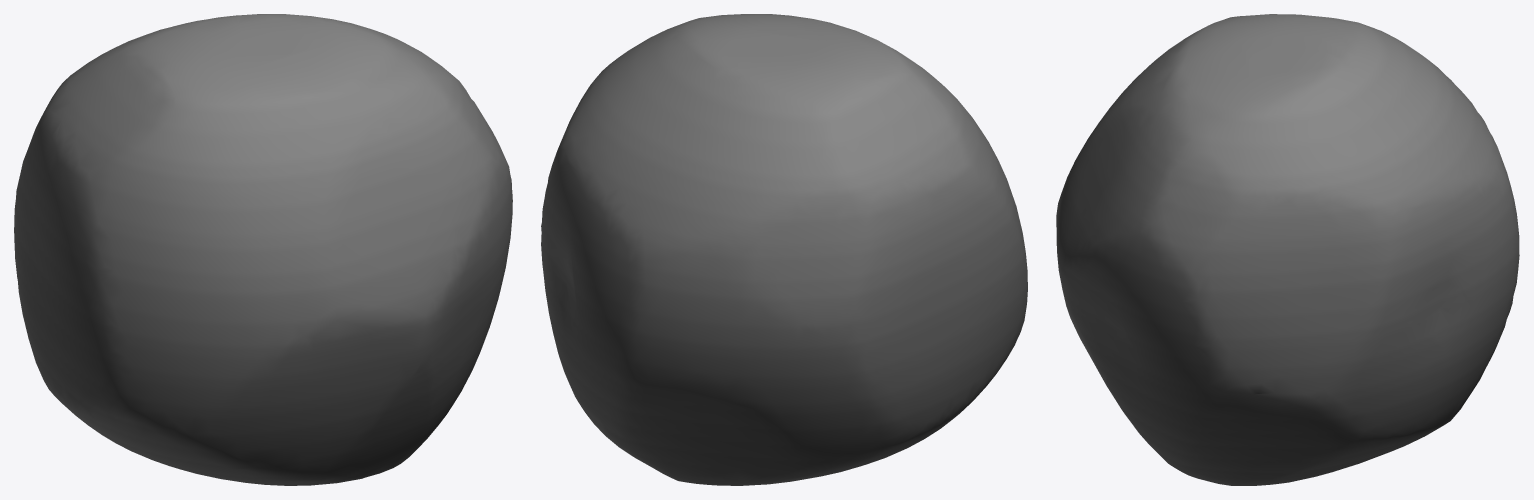
Rendered from Rock-2.fbx.
3 views of the same model, side by side, from view 1: azimuth 30°, elevation 25°; view 2: azimuth 150°, elevation 25°; view 3: azimuth 270°, elevation 25° (orthographic). The views are drawn at different scales.
Parts seen in each view (by area): view 1: Rock-2; view 2: Rock-2; view 3: Rock-2.
Part boxes in pixels (box(x1,y1,x2,y2)): Rock-2: box(14, 14, 512, 485); Rock-2: box(541, 14, 1027, 485); Rock-2: box(1056, 14, 1519, 485).
Bounding box in the file's own units: 172 × 166 × 173.
